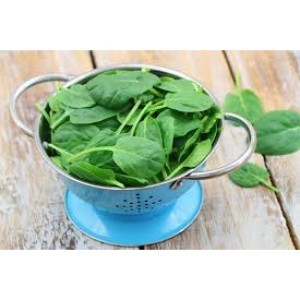spinach_brain food: (37, 72, 214, 194)
